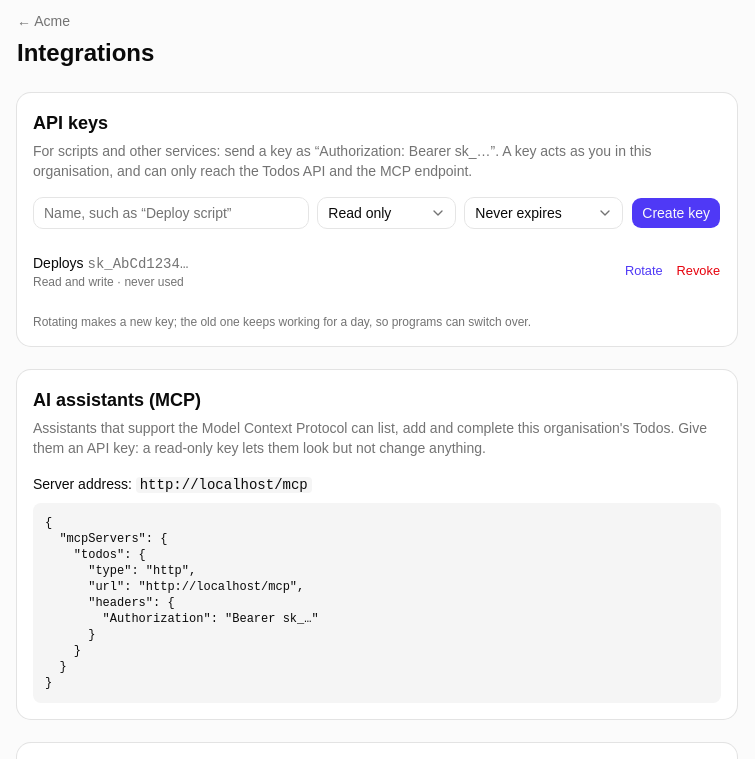
Test: IntegrationsPage › rotates and revokes keys
Later steps or results of the test are not shown.
Click the button "Rotate" at {"x": 644, "y": 272}, box [624, 261, 664, 282]
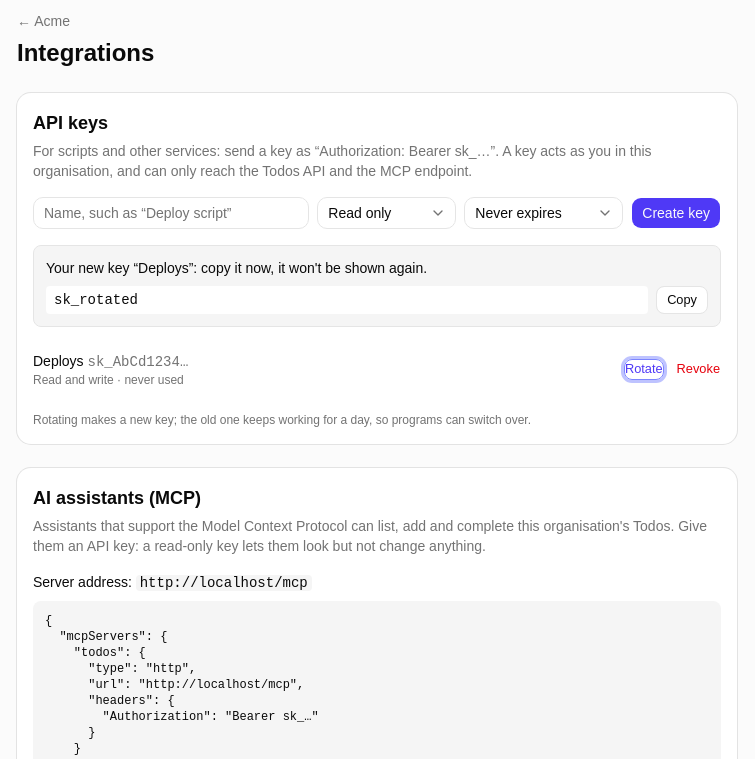
Result: the text named "Your new key" reads "sk_rotated" at [54, 292, 138, 308]
